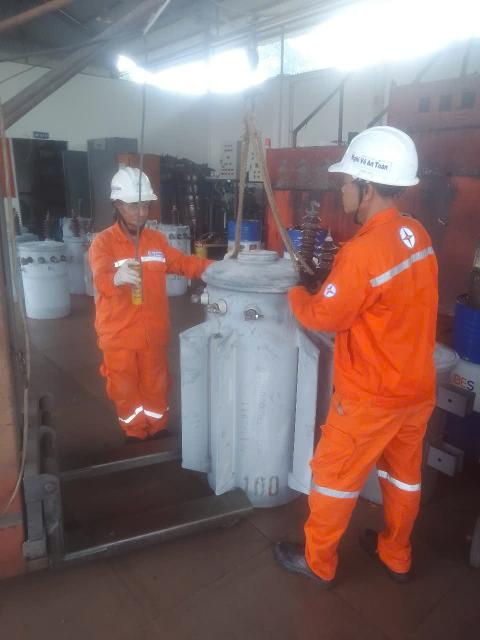gloves: (97, 257, 140, 291), (304, 267, 325, 295)
helmet: (317, 119, 442, 191), (109, 161, 170, 212)
shoes: (265, 548, 338, 595), (362, 523, 409, 588), (149, 419, 180, 453), (123, 428, 149, 453)
